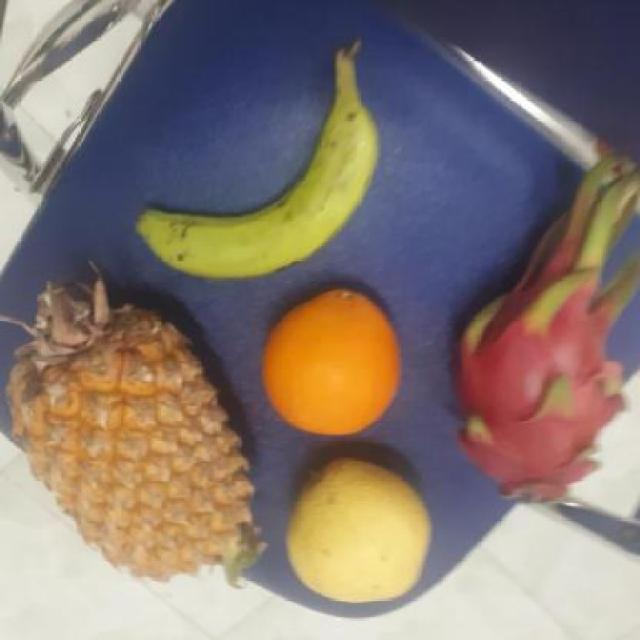banana: (146, 86, 389, 276)
dragon fruit: (452, 283, 630, 506)
oren: (262, 290, 407, 436)
pineapple: (14, 272, 261, 576)
